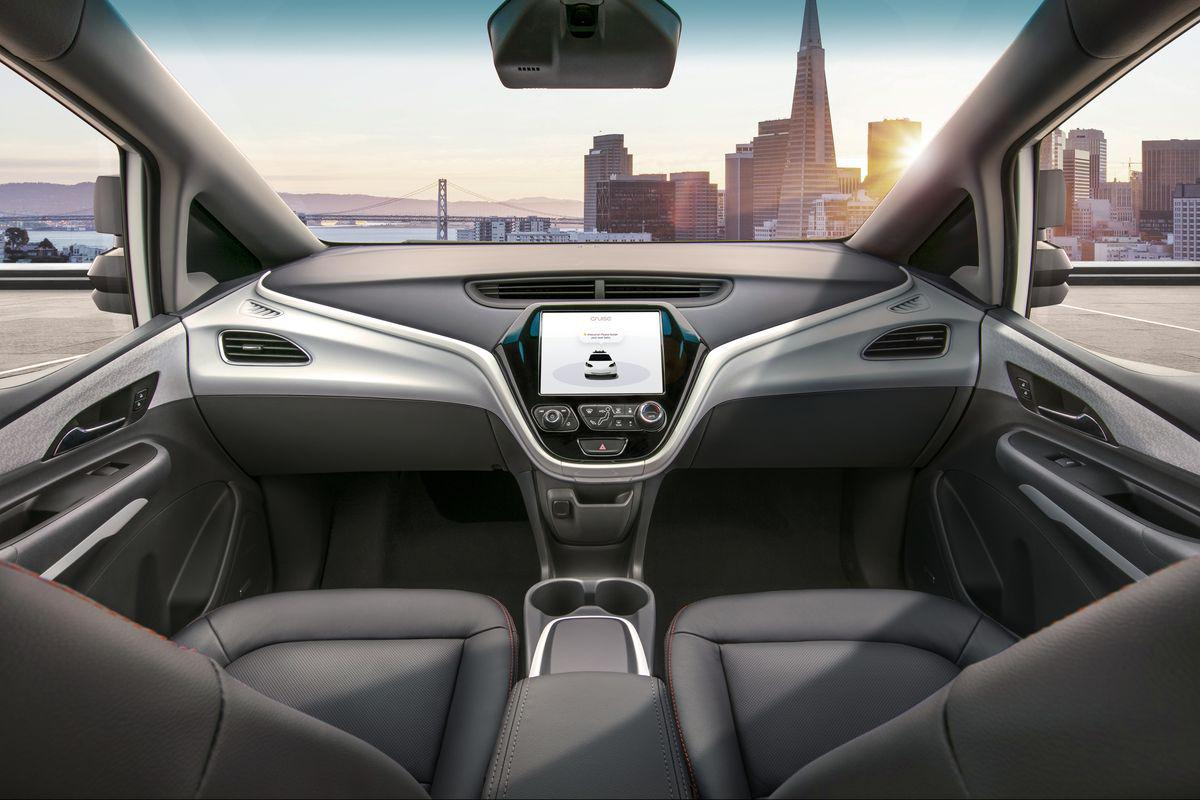car: (584, 353, 628, 386)
